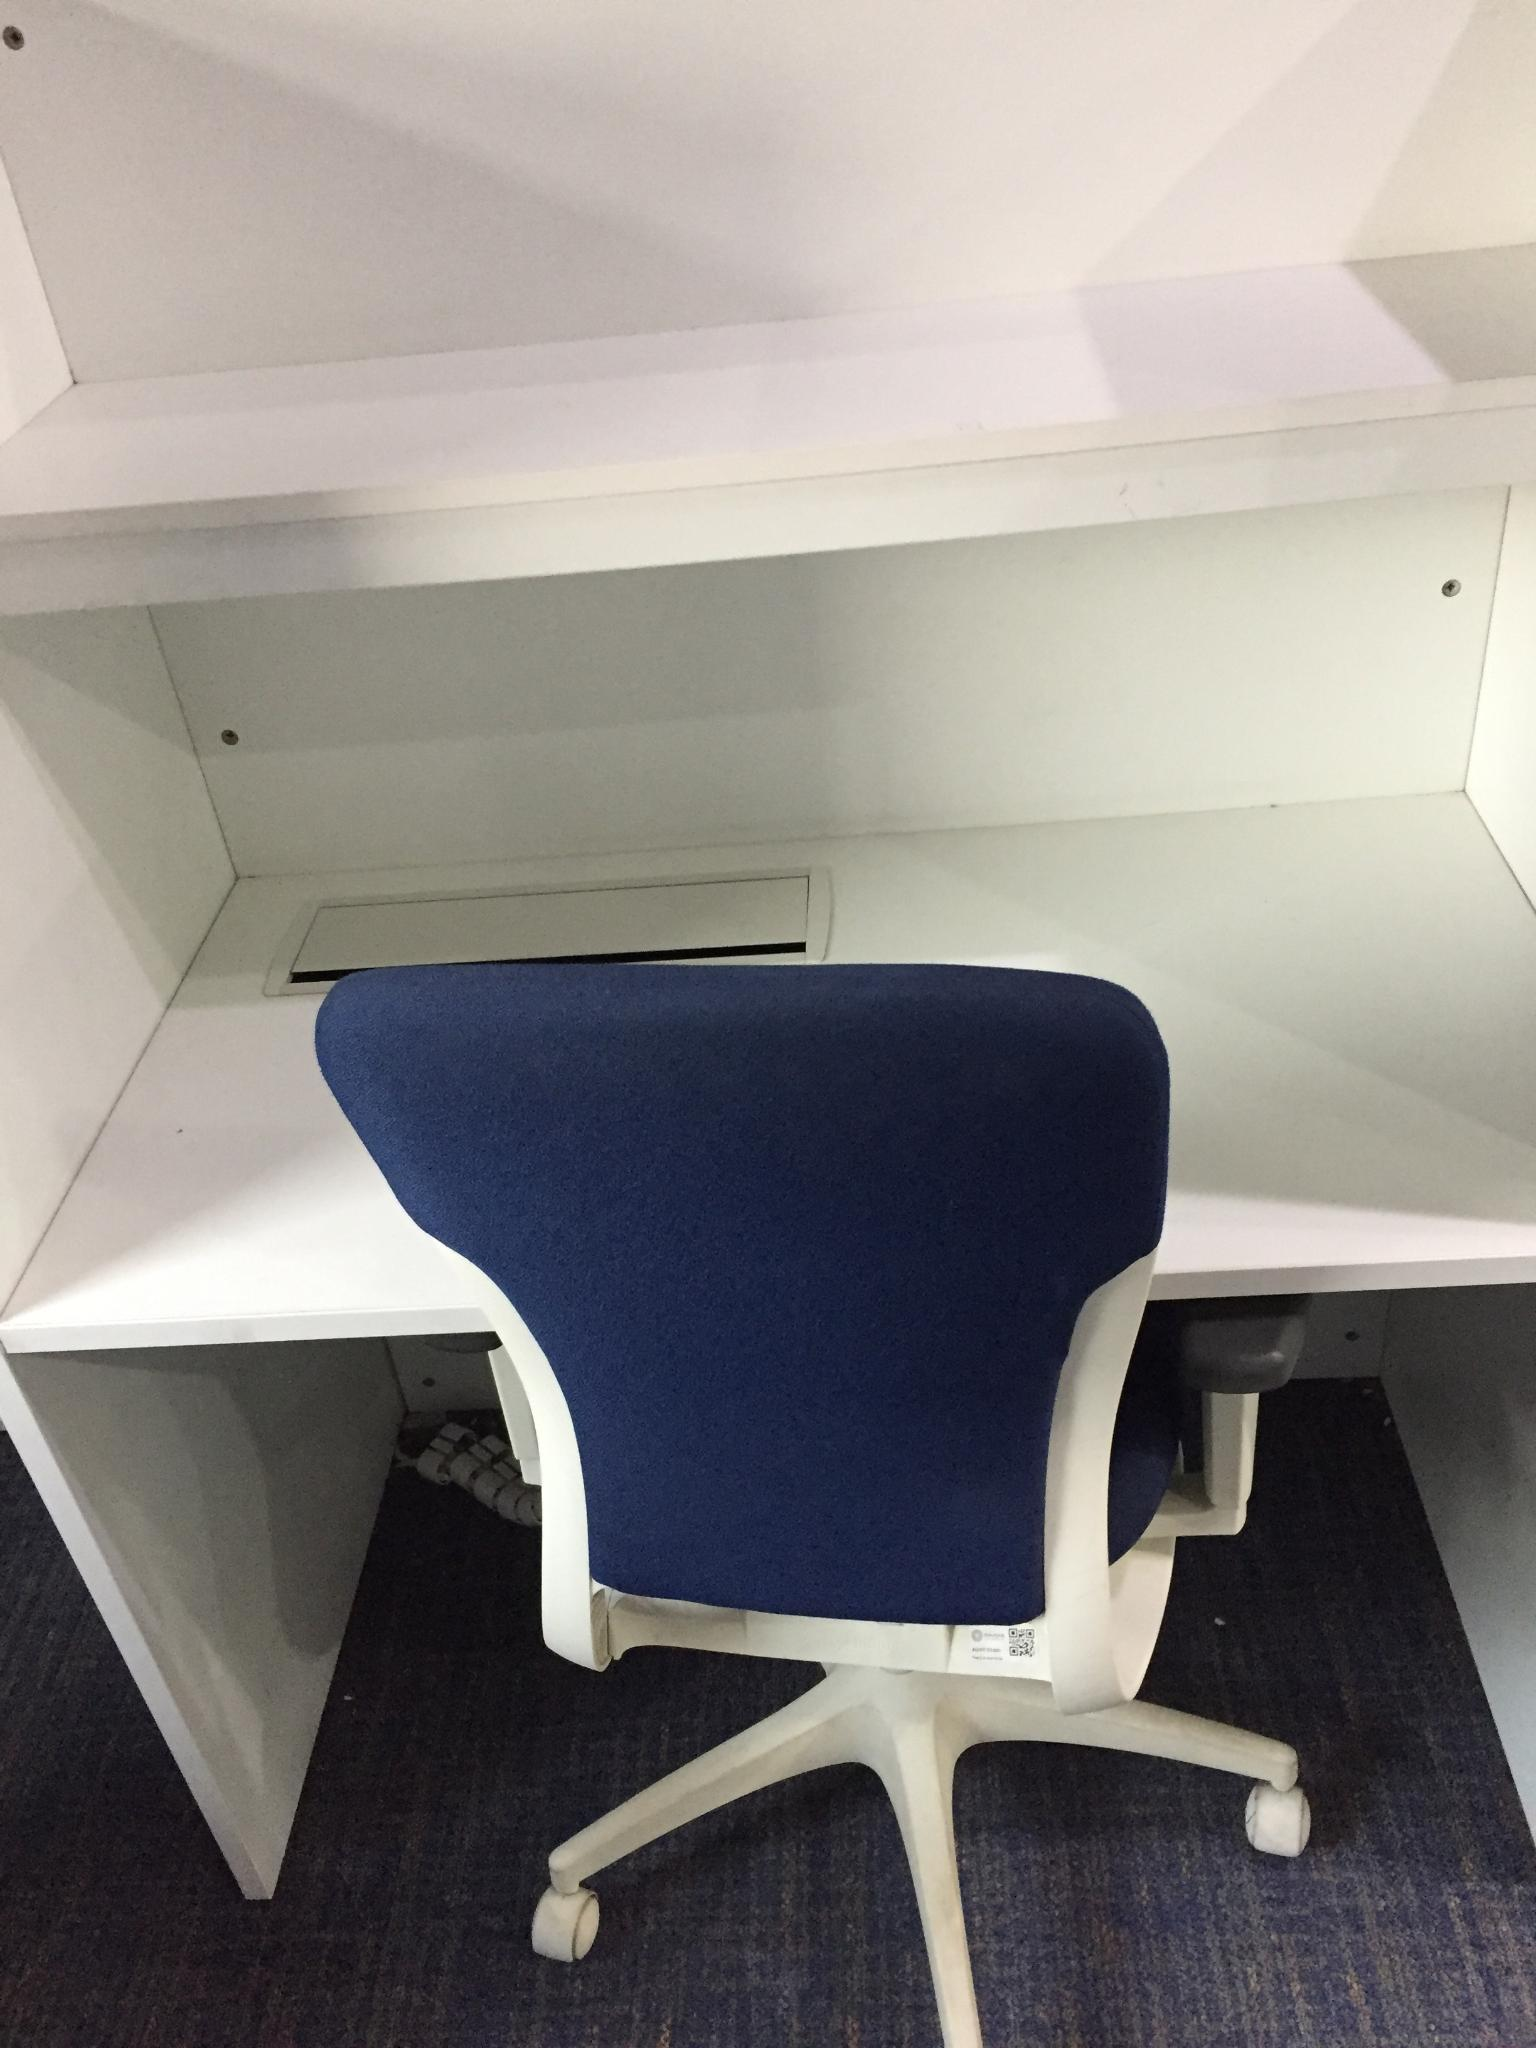chair: (313, 956, 1312, 2045)
